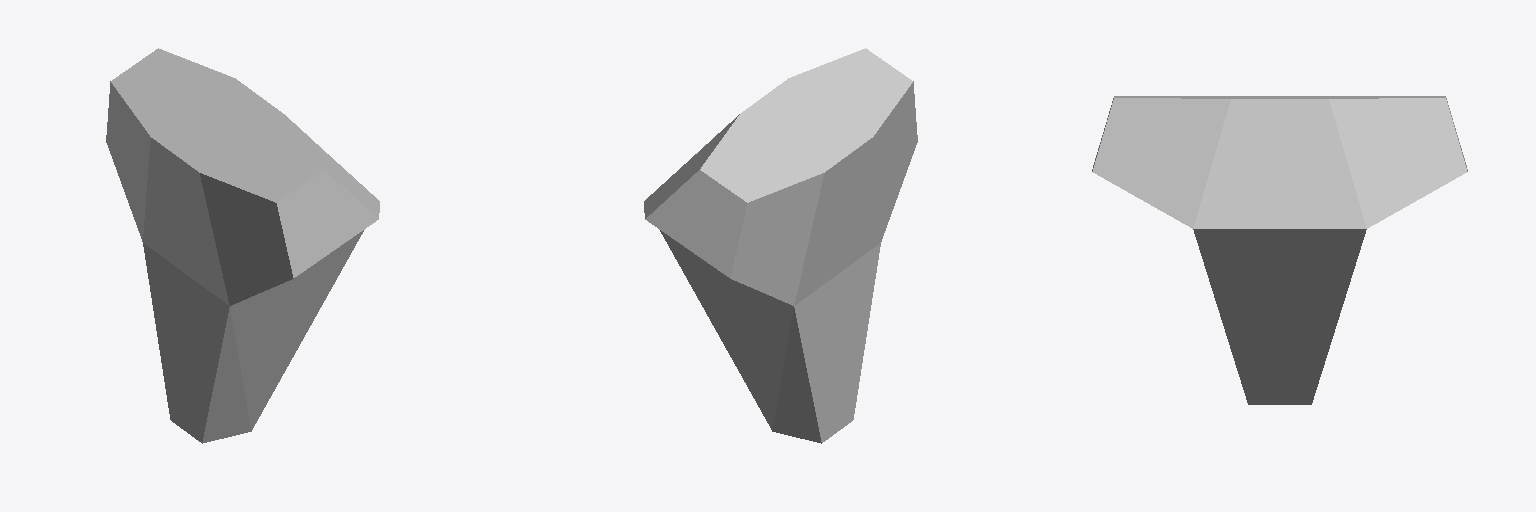
The model's file is basic.obj.
3 views of the same model, side by side, from view 1: azimuth 30°, elevation 25°; view 2: azimuth 150°, elevation 25°; view 3: azimuth 270°, elevation 25° (orthographic).
Visible parts, largest first — view 1: pCube1; view 2: pCube1; view 3: pCube1.
Part boxes in pixels (left/top/right/bottom): pCube1: left=106, top=48, right=379, bottom=443; pCube1: left=644, top=48, right=917, bottom=443; pCube1: left=1092, top=96, right=1467, bottom=404.
Bounding box in the file's own units: 0.4232 × 0.7949 × 0.8498.